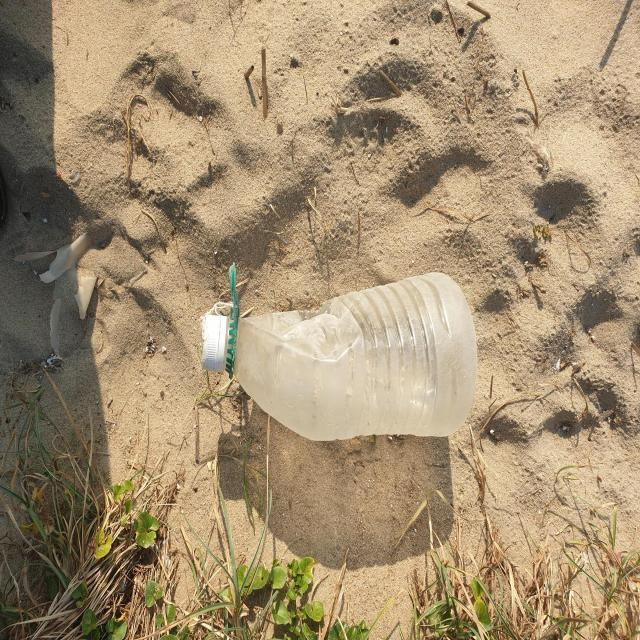plastic: (201, 264, 478, 441)
